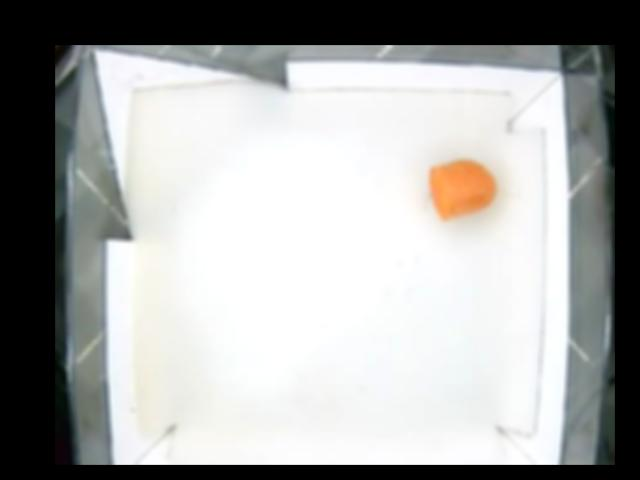Carrot: (427, 158, 496, 218)
